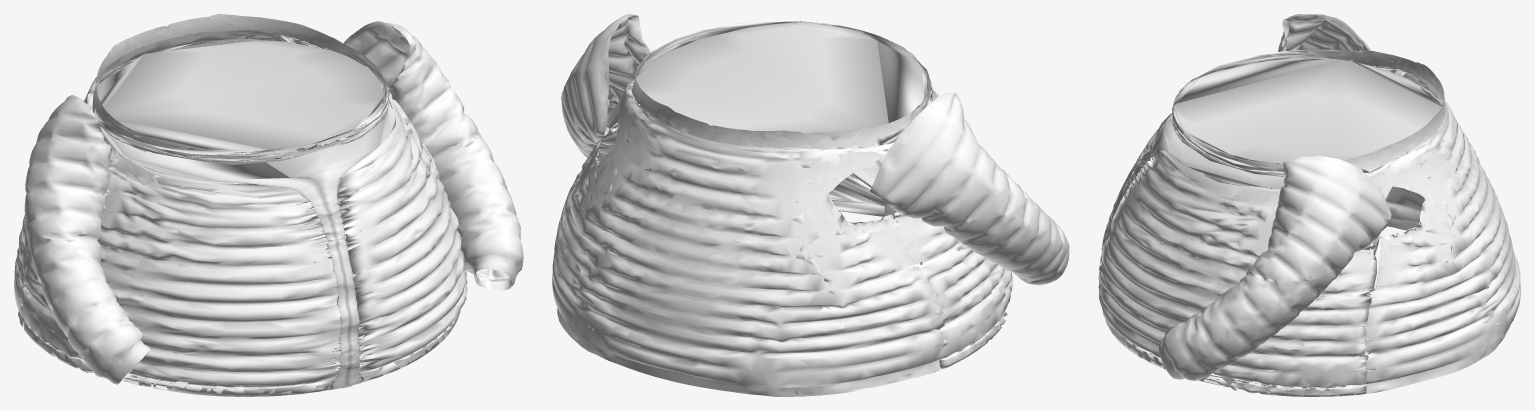
The model's file is puffer.glb.
The picture shows the model from 3 angles, left to right: view 1: azimuth 30°, elevation 25°; view 2: azimuth 150°, elevation 25°; view 3: azimuth 270°, elevation 25°; orthographic projection. The views are drawn at different scales.
Parts seen in each view (by area): view 1: upper, lower; view 2: upper, lower; view 3: upper, lower.
Part boxes in pixels (box(x1,y1,x2,y2)): upper: box(24, 14, 478, 247); lower: box(14, 128, 523, 396); upper: box(561, 14, 1026, 244); lower: box(552, 91, 1069, 396); upper: box(1130, 14, 1484, 281); lower: box(1098, 155, 1520, 396).
Bounding box in the file's own units: 208 × 105 × 180.
7 materials, 7 textured.
